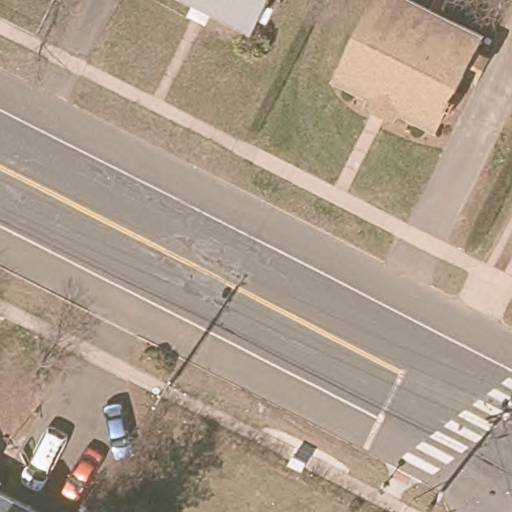DT: (409, 482, 467, 512), (150, 367, 184, 411)
